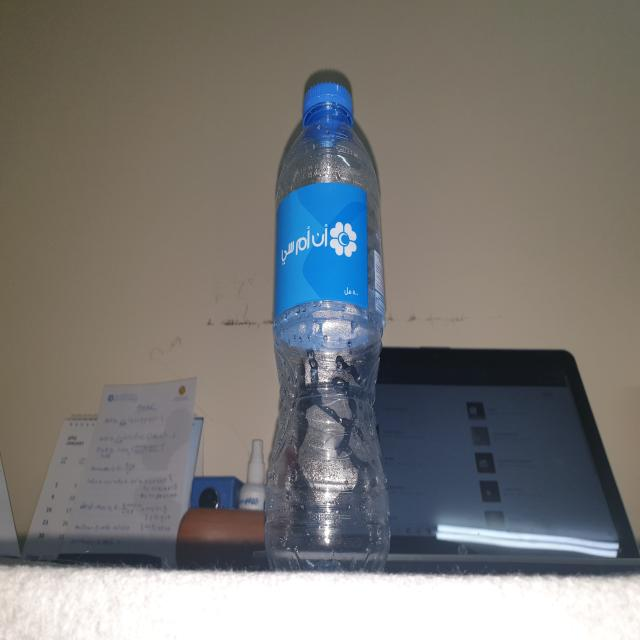bottle: (269, 81, 392, 568)
